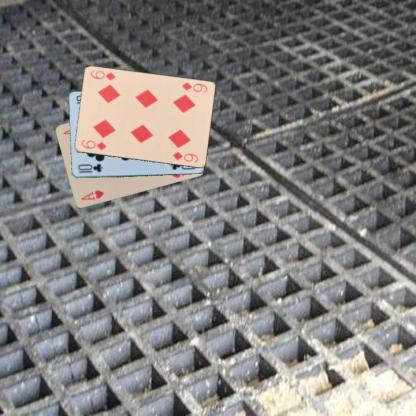10c: (75, 161, 104, 174)
6d: (78, 138, 108, 152), (179, 80, 209, 94)
Ah: (79, 188, 105, 202)
